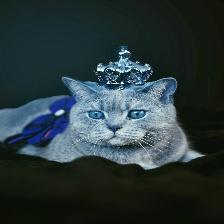kedo: (63, 78, 188, 164)
